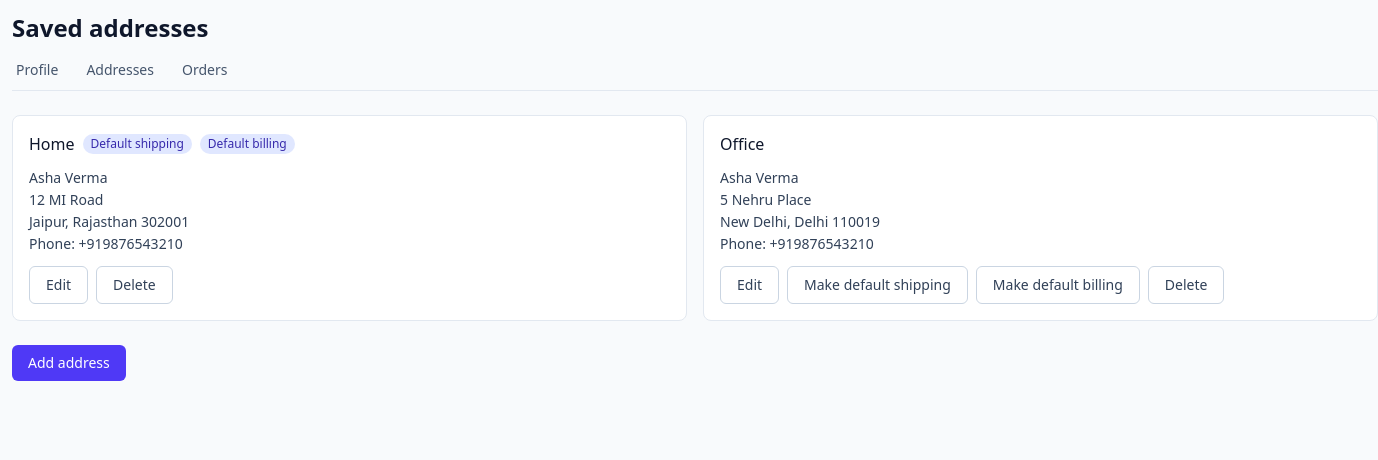
Test: AddressesPage › deletes an address only after the customer confirms
The image size is (1378, 460).
Click the button with aria-label "Delete Office" at (1186, 285), box [1148,266,1224,304]
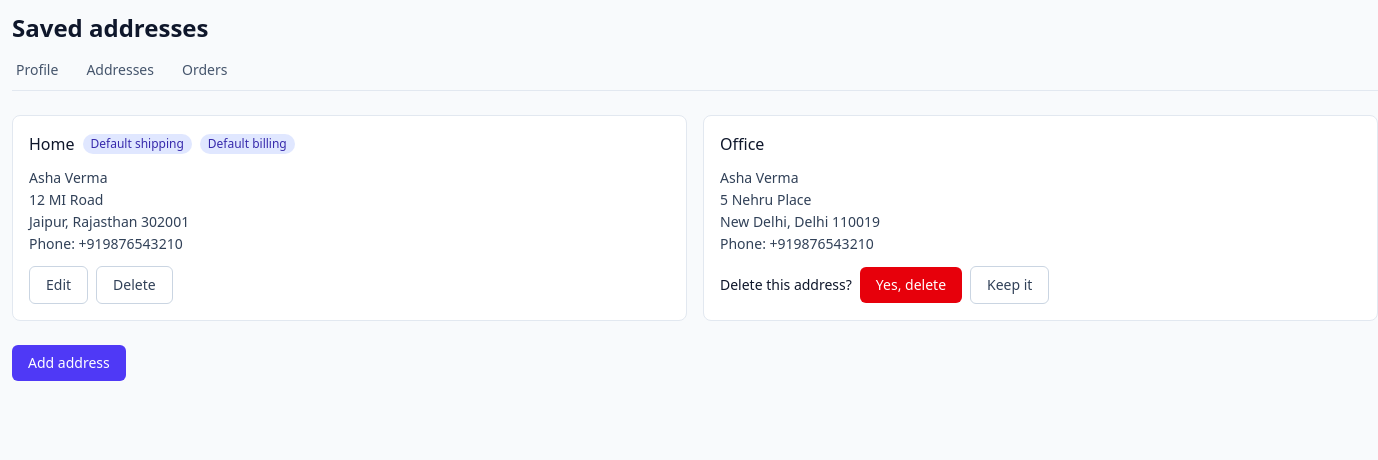
Click the button "Yes, delete" at (911, 285), box [860,267,962,303]
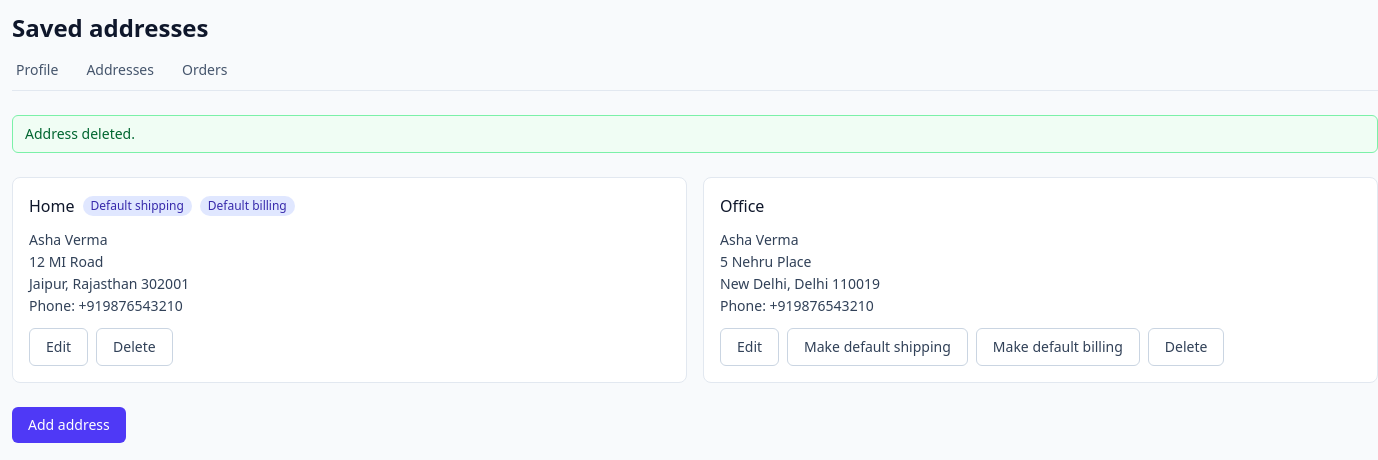
expect the text "Address deleted." is shown: met, box [12,115,1377,153]
